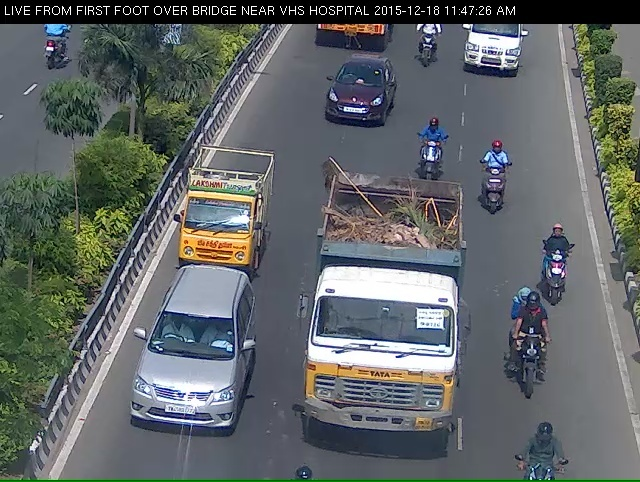Auto: (164, 149, 269, 299)
Bus: (294, 175, 469, 476)
Car: (126, 288, 249, 457), (319, 57, 386, 140), (457, 23, 525, 86)
Person: (512, 315, 550, 435), (542, 239, 576, 327), (478, 149, 515, 228), (413, 134, 447, 190), (411, 24, 440, 78)
